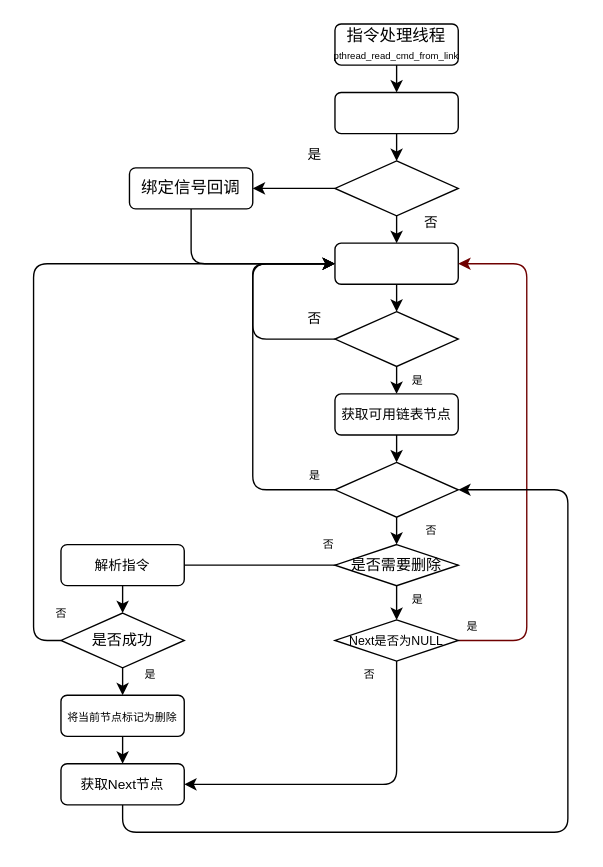
The diagram is 603 pixels wide and 867 high, and some of its shapes have lost their labels. Here are the shapes that lost their labels. From the top down, the centre of each, then its label:
At [396,112]: "变量初始化".
At [396,188]: "是否需要监听信号".
At [396,263]: "循环读取链表".
At [396,338]: "是否有值".
At [396,489]: "当前是否为NULL".
